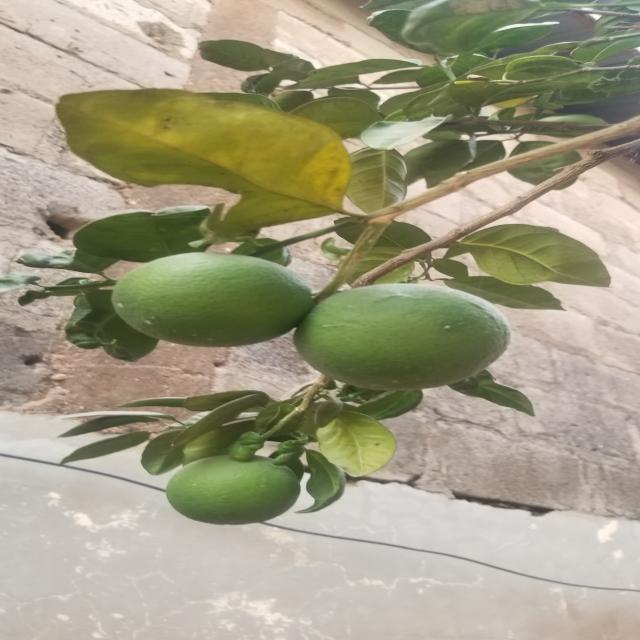Unripe: (310, 282, 519, 397), (114, 251, 307, 352), (150, 446, 327, 537)
